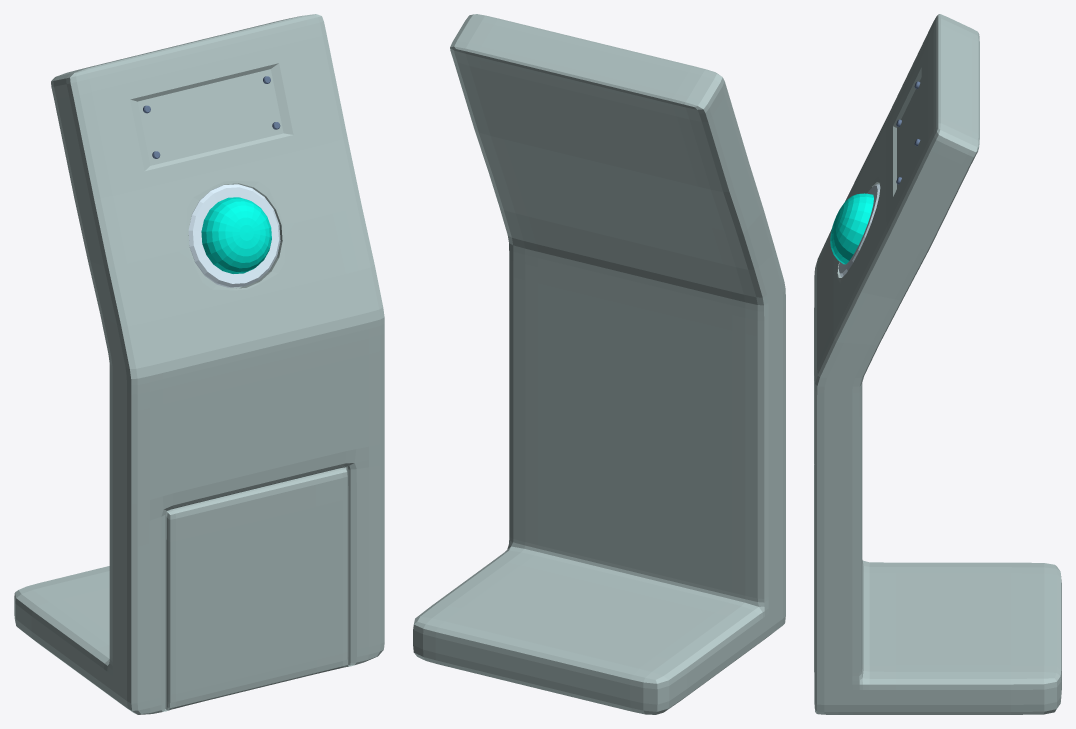
File: VRroom_Button.fbx
The picture shows the model from 3 angles, left to right: view 1: azimuth 30°, elevation 25°; view 2: azimuth 150°, elevation 25°; view 3: azimuth 270°, elevation 25°; orthographic projection. The views are drawn at different scales.
Visible parts, largest first — view 1: Stand, Button; view 2: Stand; view 3: Stand, Button.
Part boxes in pixels (x1=…): Stand: x1=14, y1=14, x2=384, y2=714; Button: x1=188, y1=184, x2=280, y2=287; Stand: x1=413, y1=14, x2=785, y2=714; Stand: x1=814, y1=14, x2=1061, y2=714; Button: x1=830, y1=184, x2=880, y2=277.
Bounding box in the file's own units: 396 × 890 × 339.
